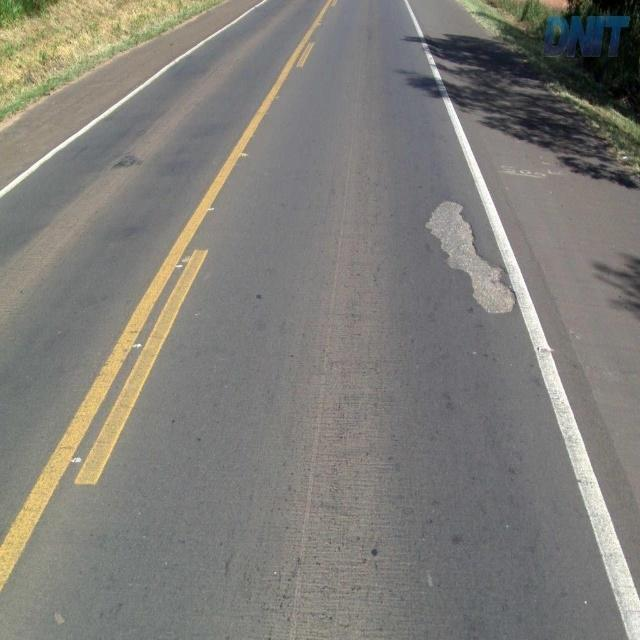pothole: (423, 193, 519, 324)
